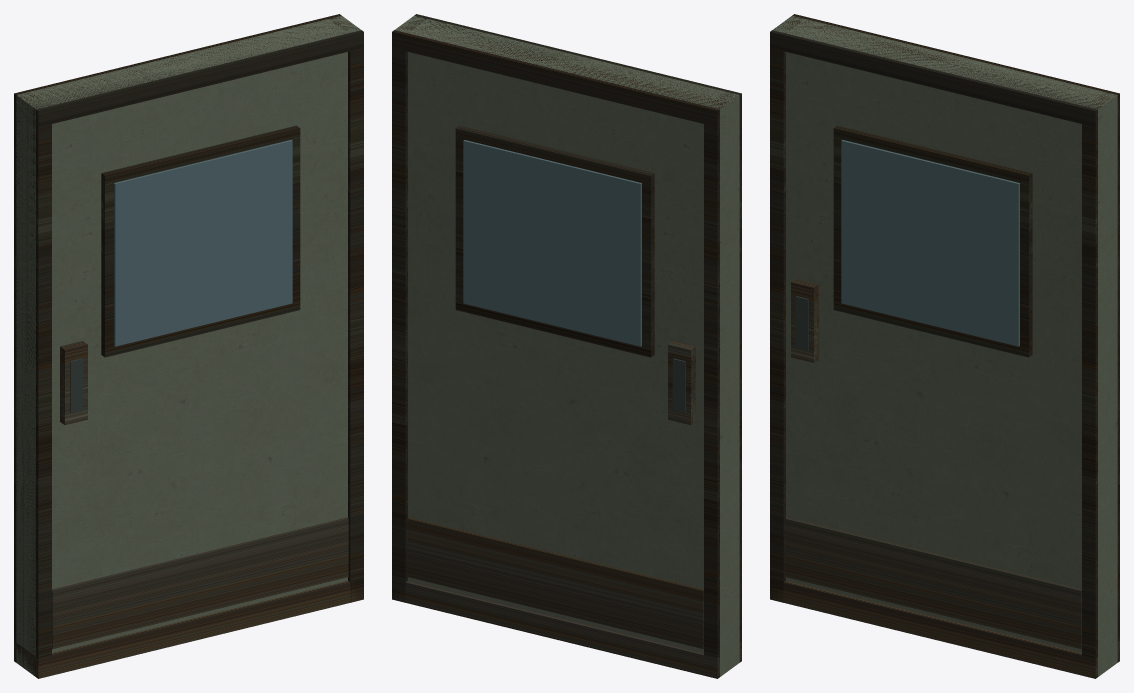
File: school_sliding_door.glb
3 views of the same model, side by side, from view 1: azimuth 30°, elevation 25°; view 2: azimuth 150°, elevation 25°; view 3: azimuth 330°, elevation 25° (orthographic).
Visible parts, largest first — view 1: Door leaf / Enamel, Wired glass / Glass Dull, Door stiles / Frame, Kick plate / Steel, Top rail / Frame, Wired glass surround / Frame, Bottom rail / Steel, Recessed pull / Steel, Pull inset / Dark; view 2: Door leaf / Enamel, Wired glass / Glass Dull, Door stiles / Frame, Kick plate / Steel, Top rail / Frame, Wired glass surround / Frame, Bottom rail / Steel, Recessed pull / Steel, Pull inset / Dark; view 3: Door leaf / Enamel, Wired glass / Glass Dull, Door stiles / Frame, Kick plate / Steel, Top rail / Frame, Wired glass surround / Frame, Bottom rail / Steel, Recessed pull / Steel, Pull inset / Dark.
Part boxes in pixels (box(x1,y1,x2,y2)): Door leaf / Enamel: box(16, 15, 360, 676); Wired glass / Glass Dull: box(114, 140, 292, 346); Door stiles / Frame: box(14, 14, 363, 678); Kick plate / Steel: box(52, 517, 348, 649); Top rail / Frame: box(14, 14, 363, 127); Wired glass surround / Frame: box(101, 125, 300, 357); Bottom rail / Steel: box(14, 581, 363, 678); Recessed pull / Steel: box(60, 341, 87, 425); Pull inset / Dark: box(70, 358, 83, 413); Door leaf / Enamel: box(395, 16, 739, 676); Wired glass / Glass Dull: box(463, 140, 641, 346); Door stiles / Frame: box(392, 14, 741, 678); Kick plate / Steel: box(407, 517, 703, 649); Top rail / Frame: box(392, 14, 741, 127); Wired glass surround / Frame: box(455, 125, 654, 357); Bottom rail / Steel: box(392, 581, 741, 678); Recessed pull / Steel: box(668, 341, 695, 425); Pull inset / Dark: box(672, 358, 685, 413); Door leaf / Enamel: box(773, 15, 1117, 676); Wired glass / Glass Dull: box(841, 140, 1019, 346); Door stiles / Frame: box(770, 14, 1119, 678); Kick plate / Steel: box(785, 517, 1081, 649); Top rail / Frame: box(770, 14, 1119, 127); Wired glass surround / Frame: box(833, 125, 1032, 357); Bottom rail / Steel: box(770, 581, 1119, 678); Recessed pull / Steel: box(791, 278, 818, 362); Pull inset / Dark: box(795, 296, 808, 350).
Bounding box in the file's own units: 1.2 × 2 × 0.2.
5 materials, 3 textured.
